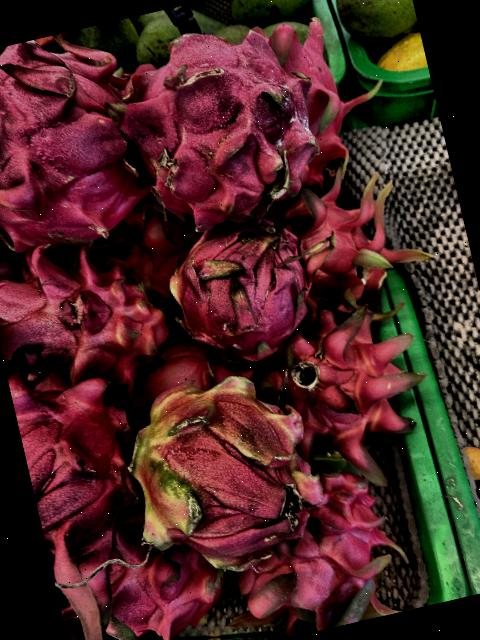buah-naga-belum-matang: (110, 363, 346, 592), (147, 194, 352, 368), (0, 238, 178, 403)
buah-naga-matang: (85, 11, 334, 247), (0, 322, 182, 640), (243, 298, 455, 493), (0, 21, 165, 269), (216, 479, 438, 640), (270, 170, 437, 316), (62, 516, 248, 640)
